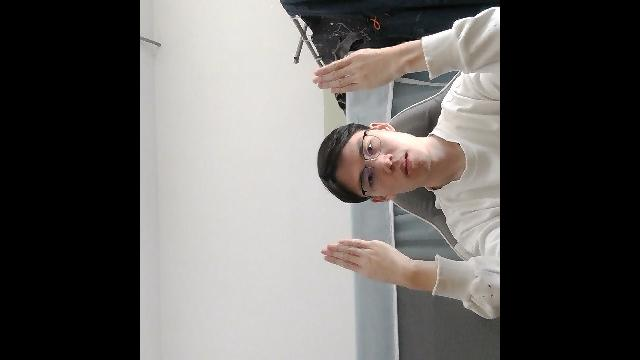four: (318, 236, 413, 286), (311, 45, 402, 94)
